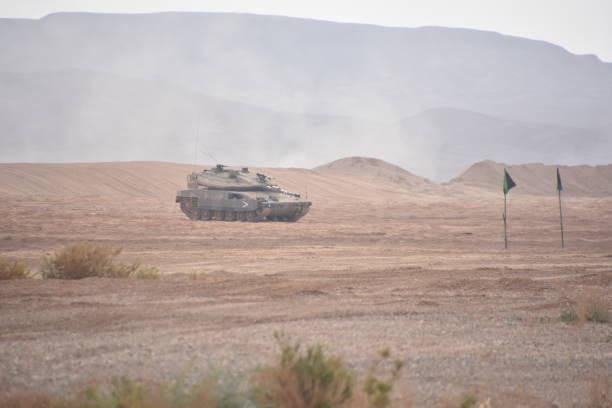tank: (176, 165, 312, 222)
